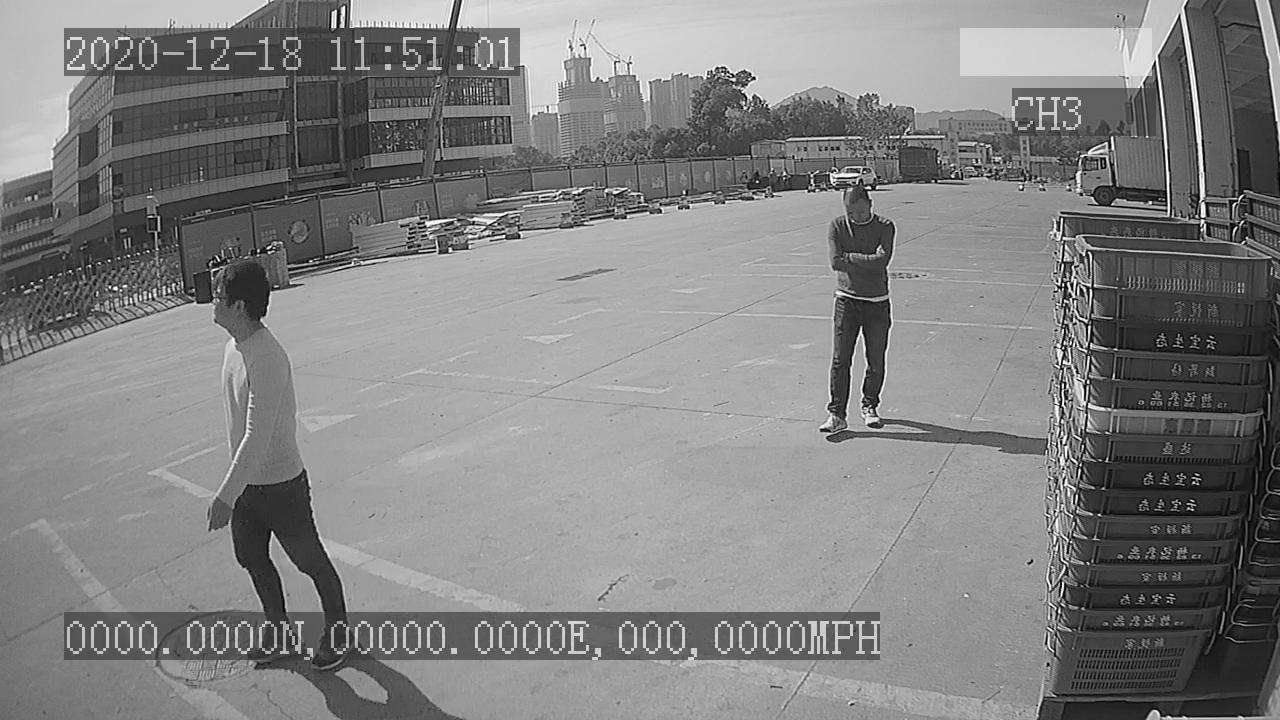person: (808, 179, 901, 444)
